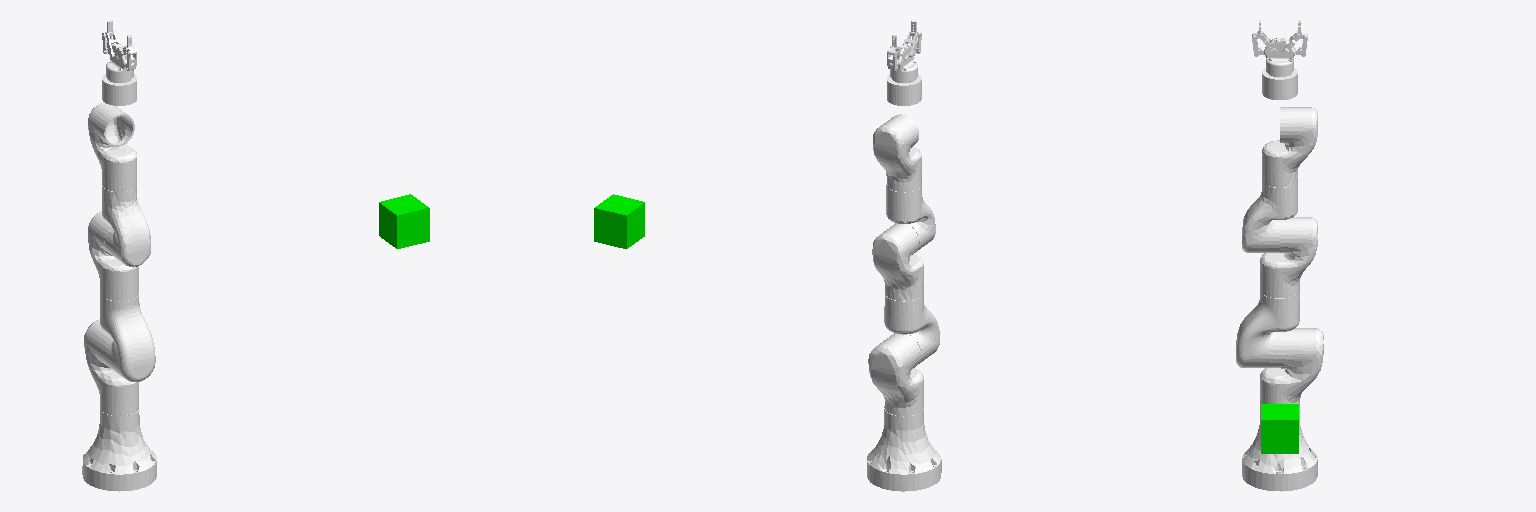
URDF robot description (mantra):
<?xml version="1.0" encoding="utf-8"?>
<!-- This URDF was automatically created by SolidWorks to URDF Exporter! Originally created by [author] ([email redacted])
     Commit Version: 1.5.0-0-g9aa0fdb  Build Version: 1.5.7004.21443
     For more information, please see http://wiki.ros.org/sw_urdf_exporter -->
<robot
  name="mantra">
  <link
    name="base_link">
    <inertial>
      <origin
        xyz="5.69641035035207E-08 -7.52429850157642E-09 0.0534781808387783"
        rpy="0 0 0" />
      <mass
        value="2.12515524577406" />
      <inertia
        ixx="0.00919560446596015"
        ixy="2.13793974775628E-09"
        ixz="-1.75777317025923E-09"
        iyy="0.00919559841583678"
        iyz="3.46157313095082E-10"
        izz="0.011098052703463" />
    </inertial>
    <visual>
      <origin
        xyz="0 0 0"
        rpy="0 0 0" />
      <geometry>
        <mesh
          filename="package://mantra_description/meshes/base_link.STL" />
      </geometry>
      <material
        name="">
        <color
          rgba="1 1 1 1" />
      </material>
    </visual>
    <collision>
      <origin
        xyz="0 0 0"
        rpy="0 0 0" />
      <geometry>
        <mesh
          filename="package://mantra_description/meshes/base_link.STL" />
      </geometry>
    </collision>
  </link>
  <link
    name="link1">
    <inertial>
      <origin
        xyz="3.33697354947896E-06 0.0376725326992402 0.113954575937932"
        rpy="0 0 0" />
      <mass
        value="0.449846417611502" />
      <inertia
        ixx="0.00281542194513947"
        ixy="-2.97928363529748E-08"
        ixz="2.31552459199413E-09"
        iyy="0.00237879024815951"
        iyz="-0.000689611051918419"
        izz="0.00161666621542504" />
    </inertial>
    <visual>
      <origin
        xyz="0 0 0"
        rpy="0 0 0" />
      <geometry>
        <mesh
          filename="package://mantra_description/meshes/link1.STL" />
      </geometry>
      <material
        name="">
        <color
          rgba="1 1 1 1" />
      </material>
    </visual>
    <collision>
      <origin
        xyz="0 0 0"
        rpy="0 0 0" />
      <geometry>
        <mesh
          filename="package://mantra_description/meshes/link1.STL" />
      </geometry>
    </collision>
  </link>
  <joint
    name="joint1"
    type="revolute">
    <origin
      xyz="0 0 0.2005"
      rpy="0 0 0" />
    <parent
      link="base_link" />
    <child
      link="link1" />
    <axis
      xyz="0 0 -1" />
    <limit
      lower="-1.5708"
      upper="1.5708"
      effort="100"
      velocity="1" />
  </joint>
  <link
    name="link2">
    <inertial>
      <origin
        xyz="3.33697354946443E-06 0.0560454240620686 0.0376725326992408"
        rpy="0 0 0" />
      <mass
        value="0.449846417611509" />
      <inertia
        ixx="0.00281542194513949"
        ixy="-2.31552459225296E-09"
        ixz="-2.97928363555503E-08"
        iyy="0.00161666621542506"
        iyz="0.000689611051918419"
        izz="0.00237879024815952" />
    </inertial>
    <visual>
      <origin
        xyz="0 0 0"
        rpy="0 0 0" />
      <geometry>
        <mesh
          filename="package://mantra_description/meshes/link2.STL" />
      </geometry>
      <material
        name="">
        <color
          rgba="1 1 1 1" />
      </material>
    </visual>
    <collision>
      <origin
        xyz="0 0 0"
        rpy="0 0 0" />
      <geometry>
        <mesh
          filename="package://mantra_description/meshes/link2.STL" />
      </geometry>
    </collision>
  </link>
  <joint
    name="joint2"
    type="revolute">
    <origin
      xyz="0 0 0.17"
      rpy="1.5707963267949 0 0" />
    <parent
      link="link1" />
    <child
      link="link2" />
    <axis
      xyz="0 0 -1" />
    <limit
      lower="-1.85"
      upper="1.85"
      effort="100"
      velocity="1" />
  </joint>
  <link
    name="link3">
    <inertial>
      <origin
        xyz="-7.12565212158657E-06 0.0300289146661516 0.103545651609833"
        rpy="0 0 0" />
      <mass
        value="0.392582340089193" />
      <inertia
        ixx="0.0020755242879527"
        ixy="1.39339603463997E-08"
        ixz="-2.85481111340335E-08"
        iyy="0.00178702026485436"
        iyz="-0.000503155834932375"
        izz="0.00121405044233485" />
    </inertial>
    <visual>
      <origin
        xyz="0 0 0"
        rpy="0 0 0" />
      <geometry>
        <mesh
          filename="package://mantra_description/meshes/link3.STL" />
      </geometry>
      <material
        name="">
        <color
          rgba="1 1 1 1" />
      </material>
    </visual>
    <collision>
      <origin
        xyz="0 0 0"
        rpy="0 0 0" />
      <geometry>
        <mesh
          filename="package://mantra_description/meshes/link3.STL" />
      </geometry>
    </collision>
  </link>
  <joint
    name="joint3"
    type="revolute">
    <origin
      xyz="0 0.17 0"
      rpy="-1.5707963267949 0 0" />
    <parent
      link="link2" />
    <child
      link="link3" />
    <axis
      xyz="0 0 -1" />
    <limit
      lower="-1.5708"
      upper="1.5708"
      effort="100"
      velocity="1" />
  </joint>
  <link
    name="link4">
    <inertial>
      <origin
        xyz="9.50435857535385E-07 0.0539665921441028 0.0317108566437211"
        rpy="0 0 0" />
      <mass
        value="0.367226253241491" />
      <inertia
        ixx="0.00189945127986856"
        ixy="1.10761786474966E-08"
        ixz="-3.7570793907639E-09"
        iyy="0.00102605162314097"
        iyz="0.000467411288512599"
        izz="0.00163165412446067" />
    </inertial>
    <visual>
      <origin
        xyz="0 0 0"
        rpy="0 0 0" />
      <geometry>
        <mesh
          filename="package://mantra_description/meshes/link4.STL" />
      </geometry>
      <material
        name="">
        <color
          rgba="1 1 1 1" />
      </material>
    </visual>
    <collision>
      <origin
        xyz="0 0 0"
        rpy="0 0 0" />
      <geometry>
        <mesh
          filename="package://mantra_description/meshes/link4.STL" />
      </geometry>
    </collision>
  </link>
  <joint
    name="joint4"
    type="revolute">
    <origin
      xyz="0 0 0.16"
      rpy="1.5707963267949 0 0" />
    <parent
      link="link3" />
    <child
      link="link4" />
    <axis
      xyz="0 0 -1" />
    <limit
      lower="-1.85"
      upper="1.85"
      effort="100"
      velocity="1" />
  </joint>
  <link
    name="link5">
    <inertial>
      <origin
        xyz="9.51012096366642E-07 0.0317108567627314 0.106033406535695"
        rpy="0 0 0" />
      <mass
        value="0.36722625401674" />
      <inertia
        ixx="0.00189945125870264"
        ixy="-3.75974500953554E-09"
        ixz="-1.10613008671998E-08"
        iyy="0.00163165410820963"
        iyz="-0.000467411240126133"
        izz="0.00102605163568241" />
    </inertial>
    <visual>
      <origin
        xyz="0 0 0"
        rpy="0 0 0" />
      <geometry>
        <mesh
          filename="package://mantra_description/meshes/link5.STL" />
      </geometry>
      <material
        name="">
        <color
          rgba="1 1 1 1" />
      </material>
    </visual>
    <collision>
      <origin
        xyz="0 0 0"
        rpy="0 0 0" />
      <geometry>
        <mesh
          filename="package://mantra_description/meshes/link5.STL" />
      </geometry>
    </collision>
  </link>
  <joint
    name="joint5"
    type="revolute">
    <origin
      xyz="0 0.16 0"
      rpy="-1.5707963267949 0 0" />
    <parent
      link="link4" />
    <child
      link="link5" />
    <axis
      xyz="0 0 -1" />
    <limit
      lower="-1.5708"
      upper="1.5708"
      effort="100"
      velocity="1" />
  </joint>
  <link
    name="link6">
    <inertial>
      <origin
        xyz="9.50435834836122E-07 0.0539665921440784 0.0317108566434664"
        rpy="0 0 0" />
      <mass
        value="0.367226253239117" />
      <inertia
        ixx="0.00189945137374859"
        ixy="1.10879827351801E-08"
        ixz="-3.81500844085306E-09"
        iyy="0.00102605167941246"
        iyz="0.000467411315869438"
        izz="0.00163165420801843" />
    </inertial>
    <visual>
      <origin
        xyz="0 0 0"
        rpy="0 0 0" />
      <geometry>
        <mesh
          filename="package://mantra_description/meshes/link6.STL" />
      </geometry>
      <material
        name="">
        <color
          rgba="1 1 1 1" />
      </material>
    </visual>
    <collision>
      <origin
        xyz="0 0 0"
        rpy="0 0 0" />
      <geometry>
        <mesh
          filename="package://mantra_description/meshes/link6.STL" />
      </geometry>
    </collision>
  </link>
  <joint
    name="joint6"
    type="revolute">
    <origin
      xyz="0 0 0.16"
      rpy="1.5707963267949 0 0" />
    <parent
      link="link5" />
    <child
      link="link6" />
    <axis
      xyz="0 0 -1" />
    <limit
      lower="-1.85"
      upper="1.85"
      effort="100"
      velocity="1" />
  </joint>
  <link
    name="link7">
    <inertial>
      <origin
        xyz="7.91773891106126E-17 -1.10416395174545E-05 0.0404968347411467"
        rpy="0 0 0" />
      <mass
        value="0.14043817532843" />
      <inertia
        ixx="0.000166560052257127"
        ixy="3.72741884645633E-20"
        ixz="-8.7076688740022E-20"
        iyy="0.000166602712740968"
        iyz="2.78725555163461E-08"
        izz="0.000232492320290339" />
    </inertial>
    <visual>
      <origin
        xyz="0 0 0"
        rpy="0 0 0" />
      <geometry>
        <mesh
          filename="package://mantra_description/meshes/link7.STL" />
      </geometry>
      <material
        name="">
        <color
          rgba="1 1 1 1" />
      </material>
    </visual>
    <collision>
      <origin
        xyz="0 0 0"
        rpy="0 0 0" />
      <geometry>
        <mesh
          filename="package://mantra_description/meshes/link7.STL" />
      </geometry>
    </collision>
  </link>
  <joint
    name="joint7"
    type="revolute">
    <origin
      xyz="0 0.16 0"
      rpy="-1.5707963267949 0 0" />
    <parent
      link="link6" />
    <child
      link="link7" />
    <axis
      xyz="0 0 -1" />
    <limit
      lower="-1.5708"
      upper="1.5708"
      effort="100"
      velocity="1" />
  </joint>
  <!-- <link
    name="gripper">
    <inertial>
      <origin
        xyz="5.62206240665474E-07 3.00957007919871E-05 -0.838686124360706"
        rpy="0 0 0" />
      <mass
        value="4.65959936378476" />
      <inertia
        ixx="0.733167737230715"
        ixy="5.4495923074898E-08"
        ixz="-1.43570428467062E-06"
        iyy="0.72846366486061"
        iyz="0.00112567728047823"
        izz="0.0215950330422125" />
    </inertial>
    <visual>
      <origin
        xyz="0 0 0"
        rpy="0 0 0" />
      <geometry>
        <mesh
          filename="package://mantra_description/meshes/gripper.STL" />
      </geometry>
      <material
        name="">
        <color
          rgba="0.792156862745098 0.819607843137255 0.933333333333333 1" />
      </material>
    </visual>
    <collision>
      <origin
        xyz="0 0 0"
        rpy="0 0 0" />
      <geometry>
        <mesh
          filename="package://mantra_description/meshes/gripper.STL" />
      </geometry>
    </collision>
  </link>
  <joint
    name="gripper"
    type="fixed">
    <origin
      xyz="0 0 0.0655"
      rpy="0 0 0" />
    <parent
      link="link7" />
    <child
      link="gripper" />
    <axis
      xyz="0 0 0" />
    <limit
      lower="-1.85"
      upper="1.85"
      effort="100"
      velocity="1" />
  </joint> -->

  <material name="green"><color rgba="0 1 0 0.3"/></material>
  <link name="box">
    <visual>
      <geometry>
        <box size="0.1 0.1 0.1"/>
      </geometry>
      <material name="green"/>
    </visual>
  </link>
  <joint name="base_to_box" type="fixed">
    <parent link="base_link"/>
    <child link="box"/>
    <origin xyz="0.88 0.0 0.546" rpy="0 0 0"/>
  </joint>
</robot>

--- Render facts (derived) ---
Views: 3 orthographic renders of the robot side by side, from view 1: azimuth 30°, elevation 25°; view 2: azimuth 150°, elevation 25°; view 3: azimuth 270°, elevation 25°.
Robot: mantra — 9 links, 8 joints (7 revolute, 1 fixed); root link base_link; default pose: all joints at 0.
Visible links, largest first — view 1: base_link, link2, link5, link4, link1, link3, box, link7; view 2: base_link, link1, link3, link5, box, link7, link2, link4; view 3: link1, link2, link3, link5, base_link, link4, link7, box.
Boxes of the visible links, x1,y1,x2,y2 form: base_link: [82, 410, 156, 491]; link2: [100, 295, 155, 381]; link5: [88, 102, 136, 191]; link4: [102, 186, 150, 267]; link1: [84, 319, 138, 415]; link3: [88, 211, 138, 300]; box: [379, 194, 429, 248]; link7: [102, 21, 136, 105]; base_link: [867, 409, 941, 491]; link1: [868, 333, 923, 415]; link3: [872, 223, 923, 300]; link5: [873, 114, 921, 191]; box: [594, 194, 644, 248]; link7: [887, 21, 921, 105]; link2: [884, 295, 939, 363]; link4: [886, 185, 935, 251]; link1: [1260, 328, 1323, 408]; link2: [1236, 292, 1299, 367]; link3: [1260, 217, 1317, 297]; link5: [1262, 107, 1317, 187]; base_link: [1242, 408, 1317, 491]; link4: [1242, 182, 1297, 252]; link7: [1252, 20, 1307, 99]; box: [1261, 404, 1298, 453].
Size in the robot's own frame: 1.03 by 0.231 by 1.32 metres.
7 mesh visuals loaded from 8 distinct referenced files (7 binary STL); not drawn: 1 (reference not matched to a file when rendering).